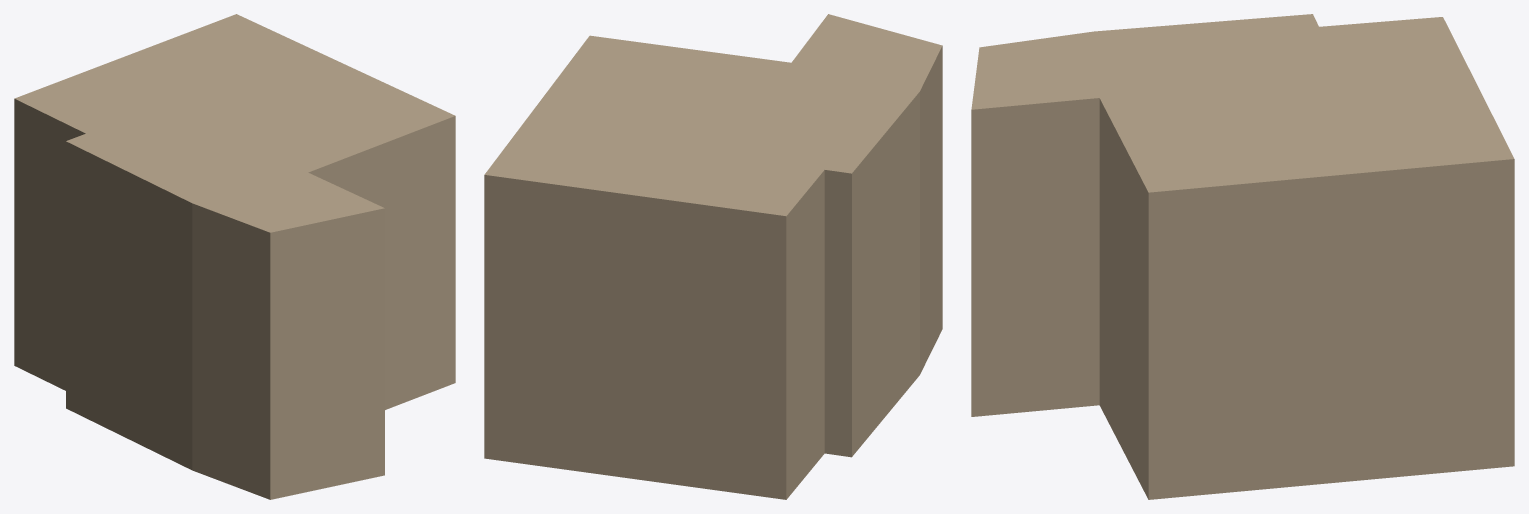
File: bld_99020398.dae
3 renders of one model, left to right at view 1: azimuth 30°, elevation 25°; view 2: azimuth 150°, elevation 25°; view 3: azimuth 270°, elevation 25°, orthographic. The views are drawn at different scales.
Parts seen in each view (by area): view 1: bld_99020398; view 2: bld_99020398; view 3: bld_99020398.
Part boxes in pixels (x1,y1,x2,y2): bld_99020398: (14,14,455,499); bld_99020398: (484,14,942,499); bld_99020398: (971,14,1514,499).
Bounding box in the file's own units: 9.97 × 12.81 × 8.
